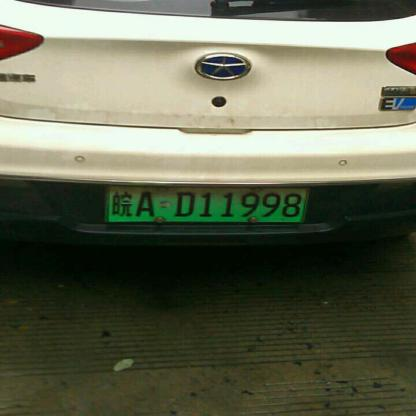lp: (108, 185, 308, 223)
